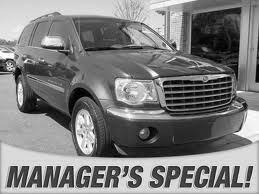car: (14, 12, 251, 158)
